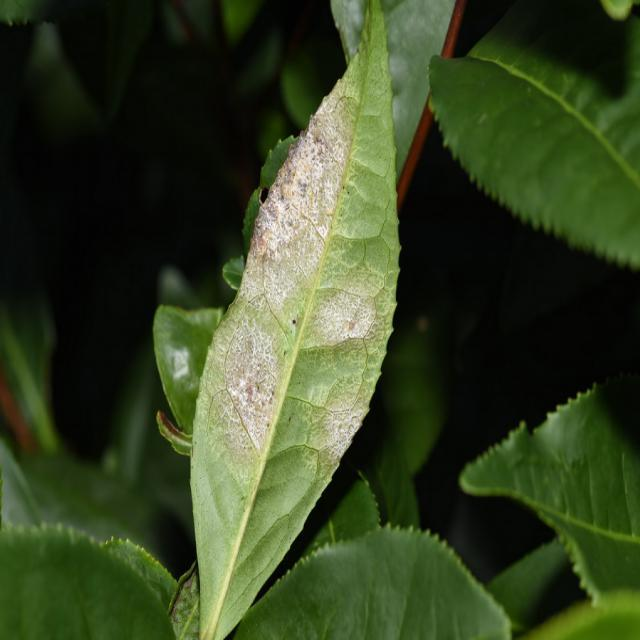Tea exobasidium blight: (205, 88, 382, 449)
